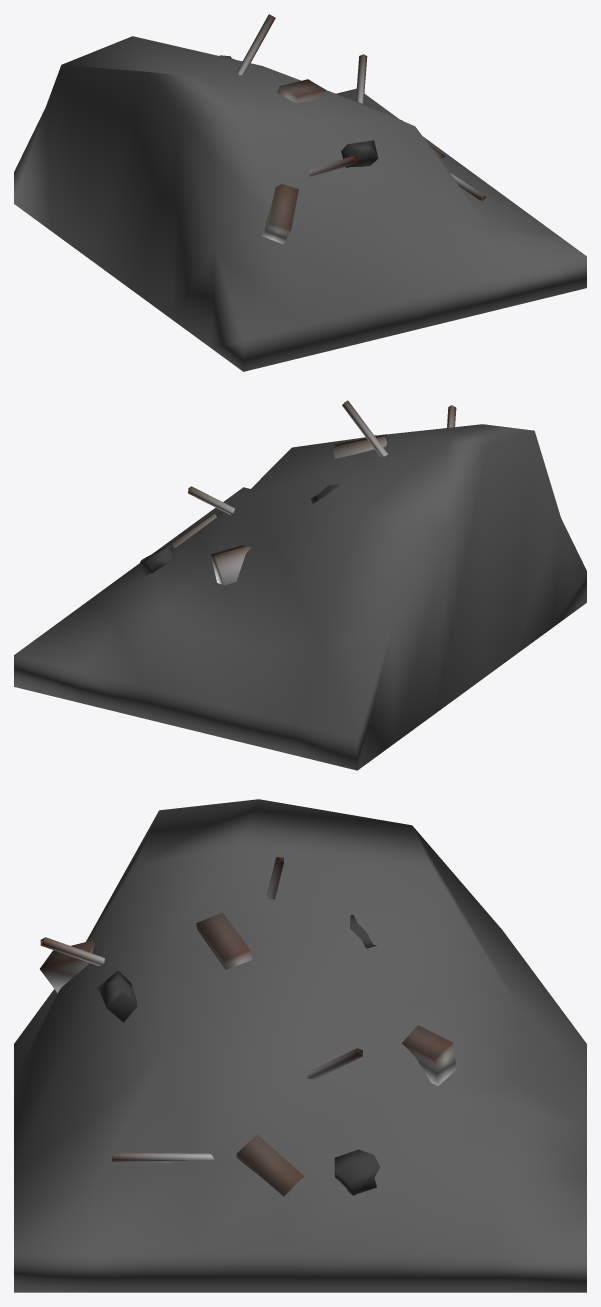
The model's file is Pile of junk 2.fbx.
3 renders of one model, top to bottom at view 1: azimuth 30°, elevation 25°; view 2: azimuth 150°, elevation 25°; view 3: azimuth 270°, elevation 25°, orthographic. The views are drawn at different scales.
Parts seen in each view (by area): view 1: PM3D_Plane3D193_016; view 2: PM3D_Plane3D193_016; view 3: PM3D_Plane3D193_016.
Part boxes in pixels (<box>): PM3D_Plane3D193_016: <box>14,14,586,371</box>; PM3D_Plane3D193_016: <box>14,400,586,770</box>; PM3D_Plane3D193_016: <box>14,799,586,1292</box>.
Bounding box in the file's own units: 132 × 85.06 × 143.
